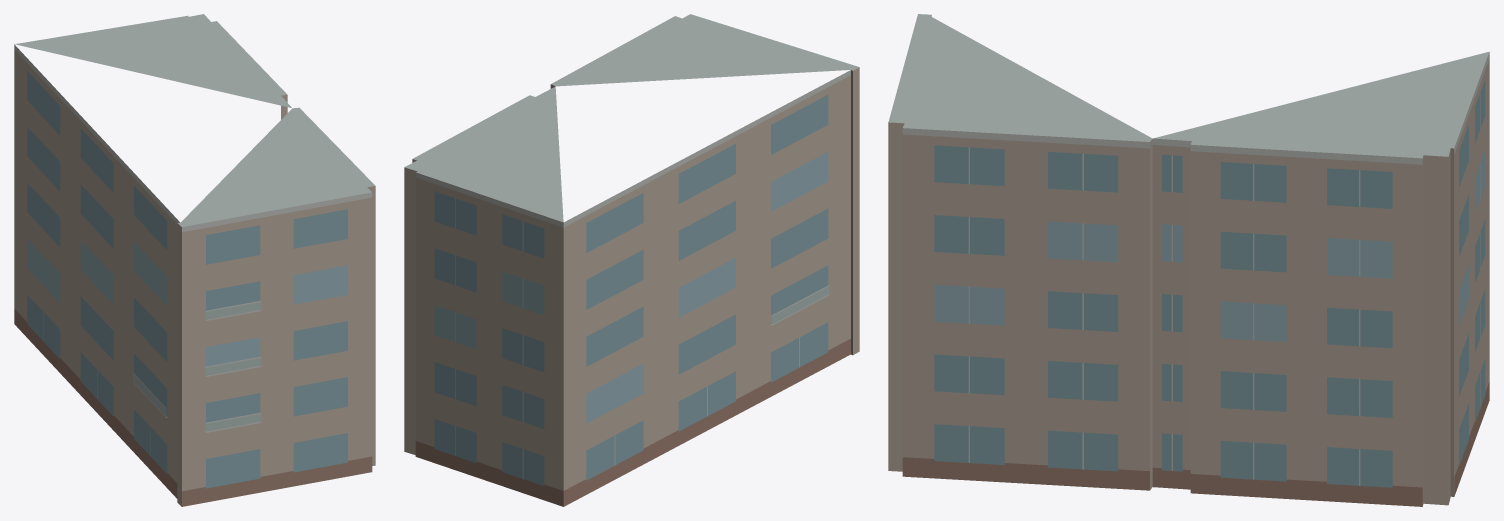
The model's file is survey-upis-32494318.glb.
3 views of the same model, side by side, from view 1: azimuth 30°, elevation 25°; view 2: azimuth 150°, elevation 25°; view 3: azimuth 270°, elevation 25° (orthographic). The views are drawn at different scales.
Visible parts, largest first — view 1: survey-upis-32494318.tmp; view 2: survey-upis-32494318.tmp; view 3: survey-upis-32494318.tmp.
Boxes of the visible parts, x1,y1,x2,y2 form: survey-upis-32494318.tmp: (14,14,375,506); survey-upis-32494318.tmp: (404,14,859,506); survey-upis-32494318.tmp: (888,14,1489,506).
Size of the model in its own units: 11.84 by 13.32 by 20.84.
